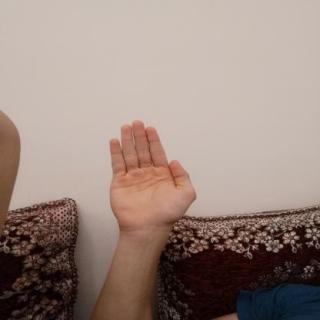SEEN: (100, 114, 202, 233)
